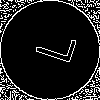L: (25, 25, 78, 66)
